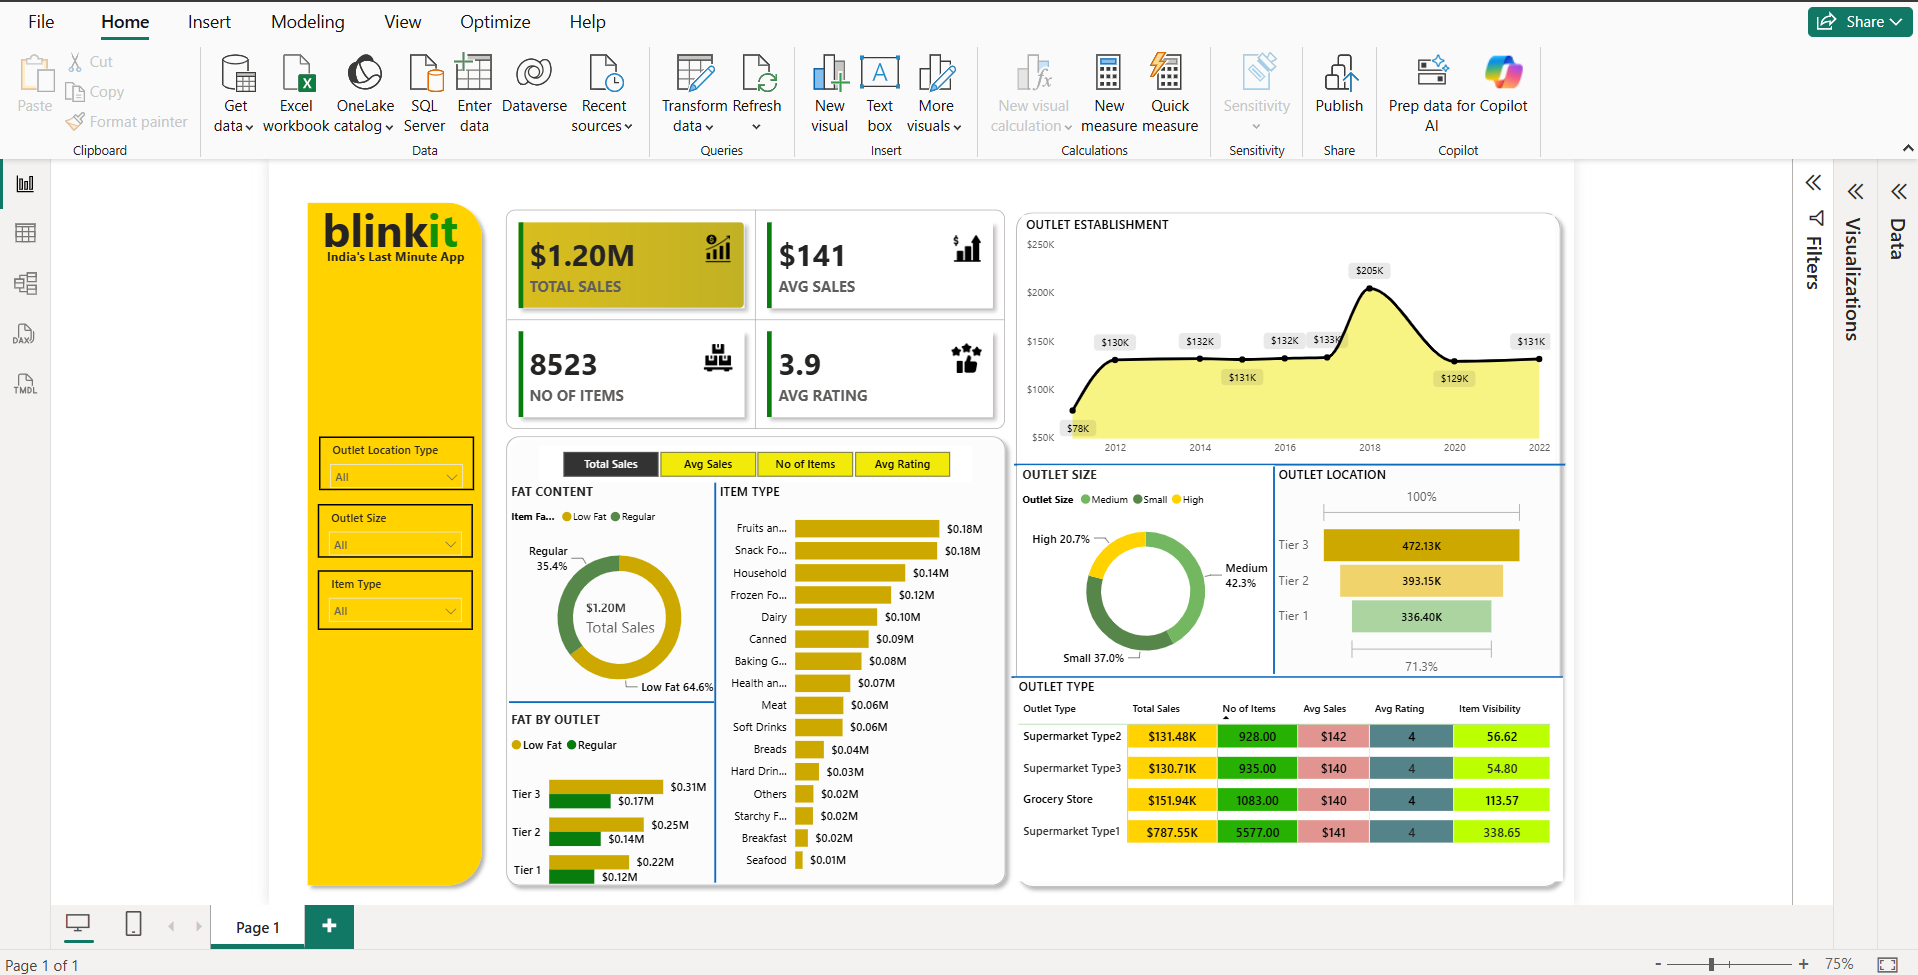

The dashboard page shown, as its layout file describes it:
{"tool":"powerbi","page":{"name":"Page 1","canvas":[1400,800],"ordinal":0},"visuals":[{"type":"shape","box":[32.2,37.5,205.1,750.7],"z":0},{"type":"textbox","box":[52.3,37.5,166.2,122],"z":1000},{"type":"textbox","box":[33.5,89.8,205.1,36.2],"z":2000},{"type":"cardVisual","fields":{"Data":["BlinkIT Grocery Data.Total Sales","BlinkIT Grocery Data.Avg Sales","BlinkIT Grocery Data.No of Items","BlinkIT Grocery Data.Avg Rating"]},"box":[237.3,37.5,569.7,269.4],"z":3000},{"type":"shape","box":[245.3,288.2,553.6,500],"z":4000},{"type":"donutChart","title":"FAT CONTENT","fields":{"Y":["BlinkIT Grocery Data.Total Sales"],"Category":["BlinkIT Grocery Data.Item Fat Content"]},"box":[254.7,347.2,242.6,244],"z":5000},{"type":"slicer","fields":{"Values":["Metrics.Metrics"]},"box":[289.5,307,465.1,40.2],"z":6000},{"type":"cardVisual","fields":{"Data":["BlinkIT Grocery Data.Total Sales"]},"box":[311,459.8,136.7,65.7],"z":7000},{"type":"clusteredBarChart","title":"FAT BY OUTLET","fields":{"Y":["BlinkIT Grocery Data.Total Sales"],"Category":["BlinkIT Grocery Data.Outlet Location Type"],"Series":["BlinkIT Grocery Data.Item Fat Content"]},"box":[254.7,591.2,219.8,209.1],"z":8000},{"type":"shape","box":[257.4,546.9,219.8,71],"z":9000},{"type":"shape","box":[368.6,347.2,219.8,429],"z":10000},{"type":"barChart","title":"ITEM TYPE","fields":{"Y":["BlinkIT Grocery Data.Total Sales"],"Category":["BlinkIT Grocery Data.Item Type"]},"box":[478.6,347.2,292.2,429],"z":11000},{"type":"shape","box":[792.2,48.3,601.9,741.3],"z":12000},{"type":"lineChart","title":"OUTLET ESTABLISHMENT","fields":{"Y":["BlinkIT Grocery Data.Total Sales"],"Category":["BlinkIT Grocery Data.Outlet Establishment Year"]},"box":[807,60.3,572.4,266.8],"z":13000},{"type":"shape","box":[798.9,292.2,591.2,71],"z":14000},{"type":"donutChart","title":"OUTLET SIZE","fields":{"Y":["BlinkIT Grocery Data.Total Sales"],"Category":["BlinkIT Grocery Data.Outlet Size"]},"box":[803,328.4,274.8,225.2],"z":15000},{"type":"shape","box":[967.8,329.8,219.8,222.5],"z":16000},{"type":"funnel","title":"OUTLET LOCATION","fields":{"Y":["Sum(BlinkIT Grocery Data.Sales)"],"Category":["BlinkIT Grocery Data.Outlet Location Type"]},"box":[1077.8,328.4,273.5,230.6],"z":17000},{"type":"shape","box":[796.3,520.1,591.2,71],"z":18000},{"type":"pivotTable","title":"OUTLET TYPE","fields":{"Rows":["BlinkIT Grocery Data.Outlet Type"],"Values":["BlinkIT Grocery Data.Total Sales","BlinkIT Grocery Data.No of Items","BlinkIT Grocery Data.Avg Sales","BlinkIT Grocery Data.Avg Rating","Sum(BlinkIT Grocery Data.Item Visibility)"]},"box":[798.9,556.3,588.5,218.5],"z":19000},{"type":"slicer","fields":{"Values":["BlinkIT Grocery Data.Outlet Location Type"]},"box":[53.6,297.6,166.2,57.6],"z":20000},{"type":"slicer","fields":{"Values":["BlinkIT Grocery Data.Outlet Size"]},"box":[52.3,370,166.2,57.6],"z":21000},{"type":"slicer","fields":{"Values":["BlinkIT Grocery Data.Item Type"]},"box":[52.3,441,166.2,64.3],"z":22000}]}

Visuals, with their boxes on the page's 1400x800 design canvas (x1, y1, x2, y2). These are canvas units, not pixel positions in the 1918x975 screenshot, which may show the page scaled, cropped or inside an application window:
shape: 32:38:237:788
textbox: 52:38:218:160
textbox: 34:90:239:126
cardVisual - BlinkIT Grocery Data.Total Sales x BlinkIT Grocery Data.Avg Sales: 237:38:807:307
shape: 245:288:799:788
"FAT CONTENT" donutChart: 255:347:497:591
slicer - Metrics.Metrics: 290:307:755:347
cardVisual - BlinkIT Grocery Data.Total Sales: 311:460:448:526
"FAT BY OUTLET" clusteredBarChart: 255:591:474:800
shape: 257:547:477:618
shape: 369:347:588:776
"ITEM TYPE" barChart: 479:347:771:776
shape: 792:48:1394:790
"OUTLET ESTABLISHMENT" lineChart: 807:60:1379:327
shape: 799:292:1390:363
"OUTLET SIZE" donutChart: 803:328:1078:554
shape: 968:330:1188:552
"OUTLET LOCATION" funnel: 1078:328:1351:559
shape: 796:520:1388:591
"OUTLET TYPE" pivotTable: 799:556:1387:775
slicer - BlinkIT Grocery Data.Outlet Location Type: 54:298:220:355
slicer - BlinkIT Grocery Data.Outlet Size: 52:370:218:428
slicer - BlinkIT Grocery Data.Item Type: 52:441:218:505
